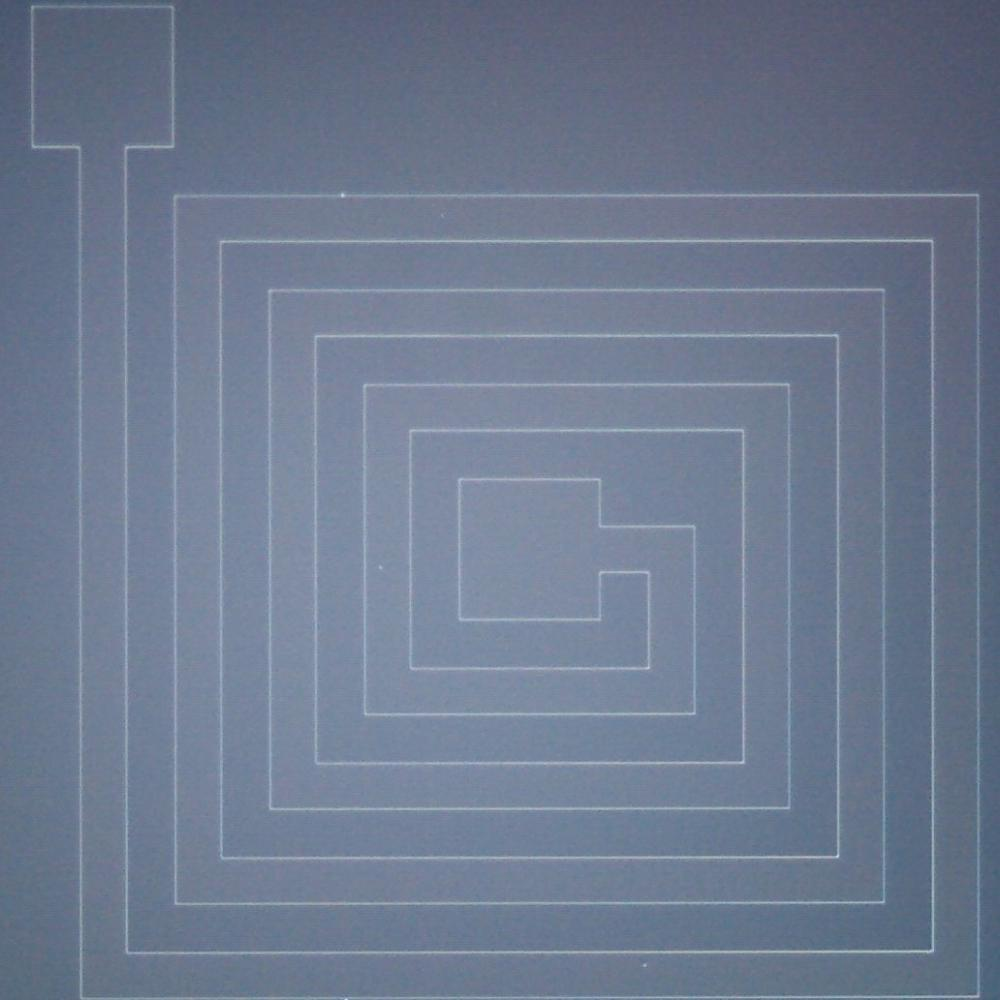dot: (340, 192, 345, 198), (440, 213, 445, 218), (379, 566, 383, 570), (644, 964, 648, 968)
